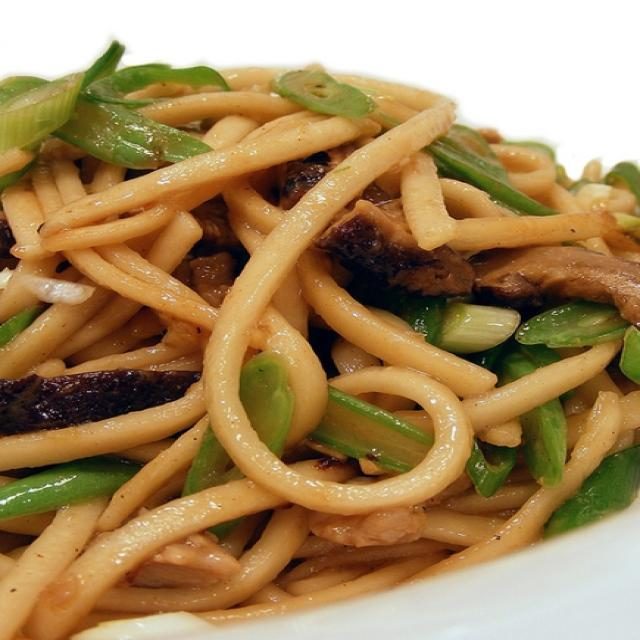面条主食: (6, 52, 613, 608)
